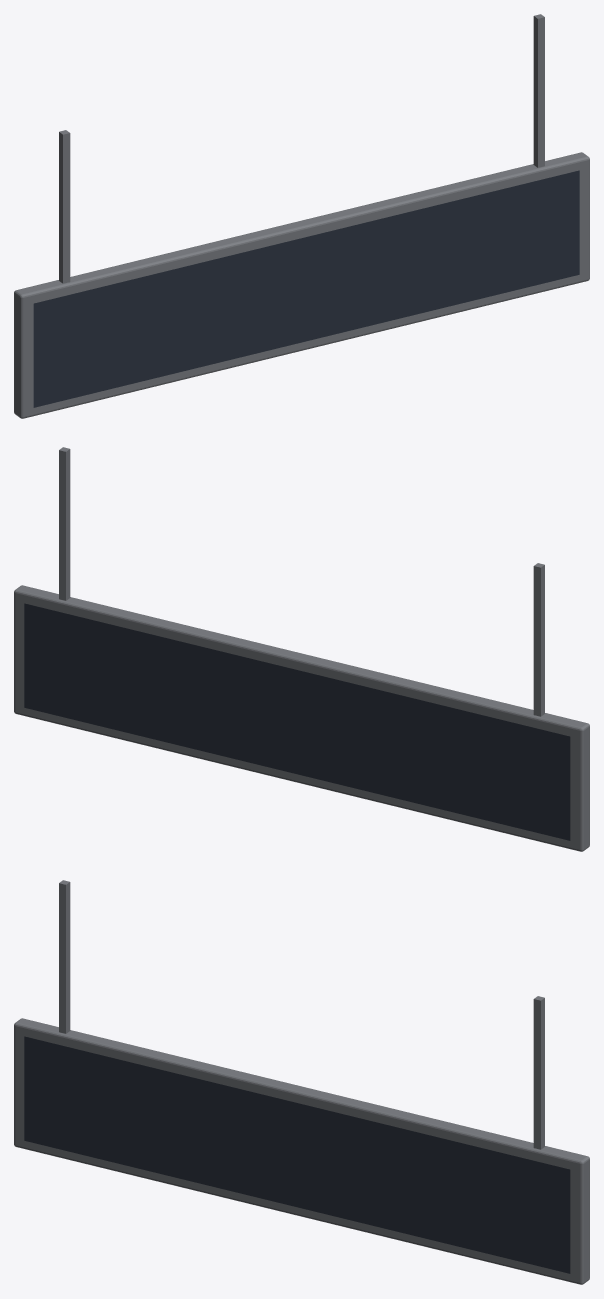
The model's file is sign_frame.glb.
3 views of the same model, one above another, from view 1: azimuth 30°, elevation 25°; view 2: azimuth 150°, elevation 25°; view 3: azimuth 330°, elevation 25° (orthographic).
Parts seen in each view (by area): view 1: Sign_A, Board, Hanger_-1.0, Hanger_1.0; view 2: Sign_B, Board, Hanger_-1.0, Hanger_1.0; view 3: Sign_A, Board, Hanger_-1.0, Hanger_1.0.
Part boxes in pixels (x1,y1,x2,y2): Sign_A: (33, 170, 579, 407); Board: (14, 152, 589, 418); Hanger_-1.0: (59, 130, 70, 283); Hanger_1.0: (533, 14, 544, 167); Sign_B: (24, 603, 570, 840); Board: (14, 585, 589, 851); Hanger_-1.0: (533, 563, 544, 716); Hanger_1.0: (59, 447, 70, 600); Sign_A: (24, 1036, 570, 1273); Board: (14, 1018, 589, 1284); Hanger_-1.0: (59, 880, 70, 1033); Hanger_1.0: (533, 996, 544, 1149).
Size of the model in its own units: 2.4 by 1.1 by 0.07.
